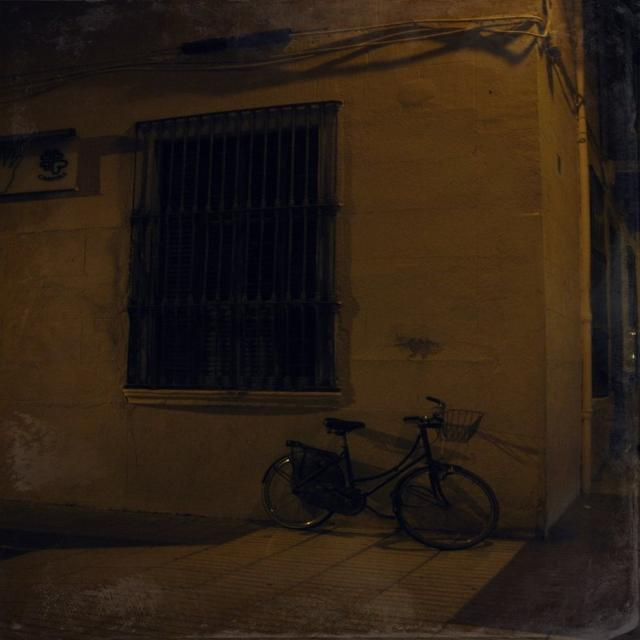Bicycle: (220, 392, 540, 570)
